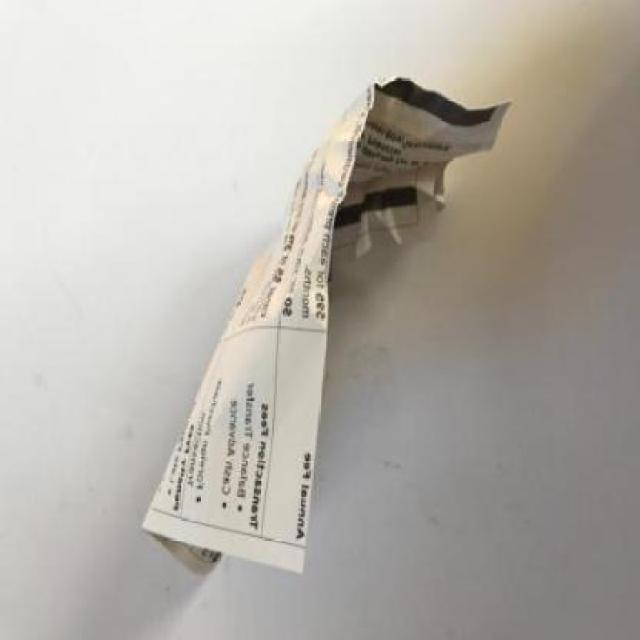PAPER: (138, 78, 511, 577)
